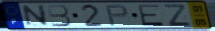2: (80, 3, 104, 28)
B: (46, 4, 73, 28)
E: (136, 4, 166, 27)
N: (22, 4, 50, 28)
P: (104, 4, 130, 27)
Z: (161, 3, 193, 27)
